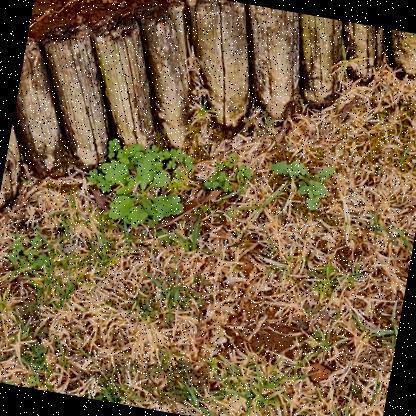Weeds: (91, 147, 190, 235), (265, 155, 337, 212)
